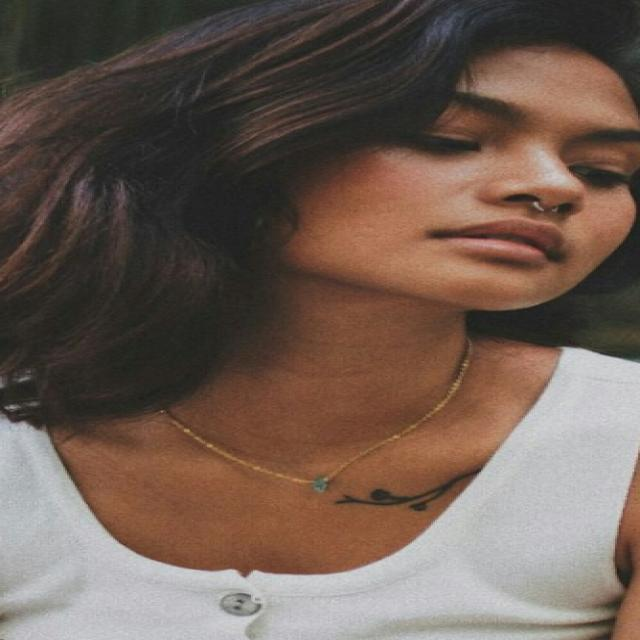front: (391, 84, 640, 304)
